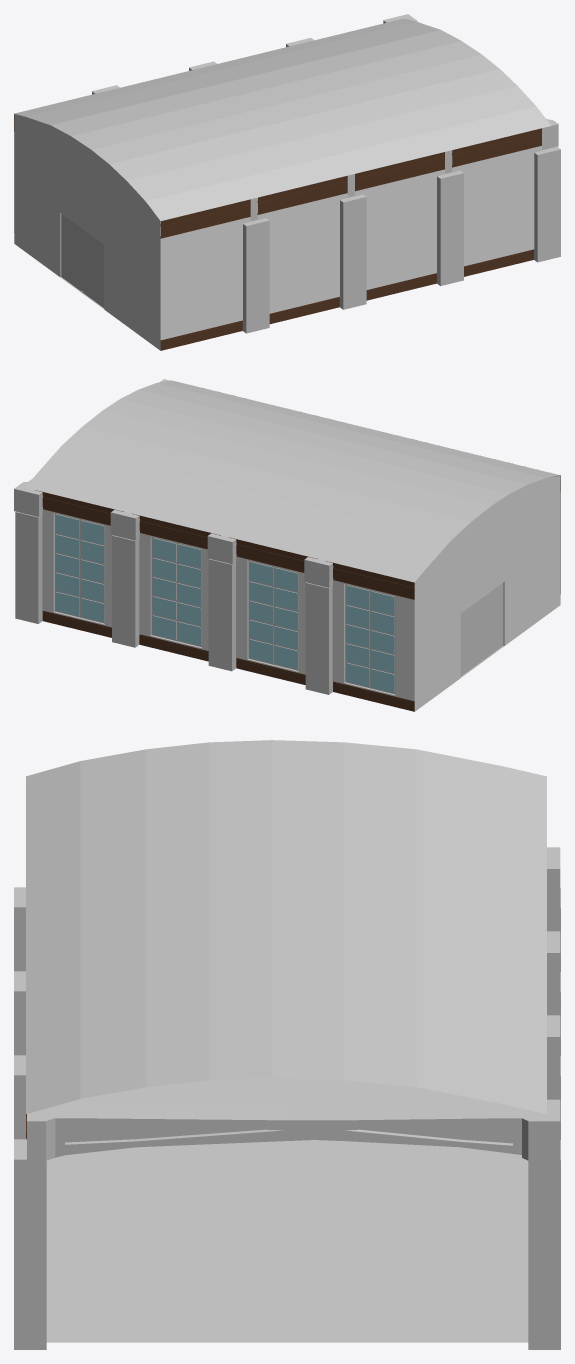
Rendered from int_anime.fbx.
3 renders of one model, top to bottom at view 1: azimuth 30°, elevation 25°; view 2: azimuth 150°, elevation 25°; view 3: azimuth 270°, elevation 25°, orthographic. The views are drawn at different scales.
Visible parts, largest first — view 1: Plane.003, Plane.001, Plane.002, Plane.000; view 2: Plane.003, Plane.002, Plane.001, Plane.000; view 3: Plane.001, Plane.000, Plane.002, Plane.003.
Boxes of the visible parts, <box> form: Plane.003: <box>14,85,269,350</box>; Plane.001: <box>308,14,560,276</box>; Plane.002: <box>113,61,366,324</box>; Plane.000: <box>211,38,463,300</box>; Plane.003: <box>304,451,560,711</box>; Plane.002: <box>207,427,461,684</box>; Plane.001: <box>14,379,267,637</box>; Plane.000: <box>110,404,364,661</box>; Plane.001: <box>14,994,560,1349</box>; Plane.000: <box>14,910,560,1258</box>; Plane.002: <box>14,826,560,1174</box>; Plane.003: <box>14,740,560,1090</box>.
Bounding box in the file's own units: 2653 × 958 × 1781.
